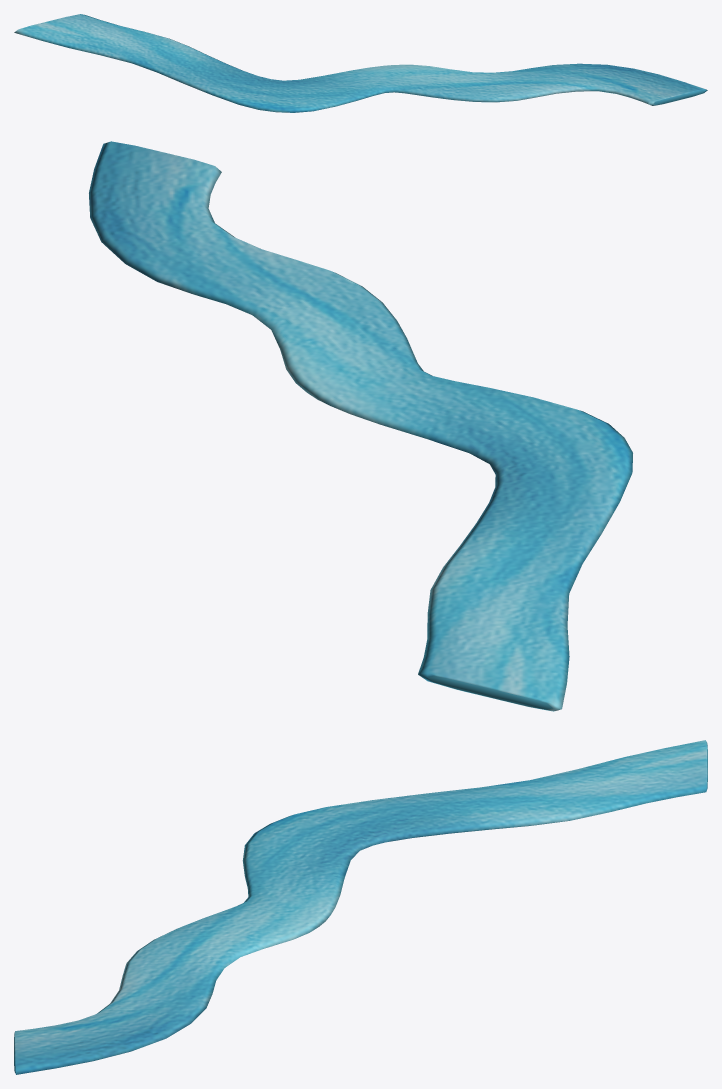
File: waterFixed 1.fbx
3 views of the same model, one above another, from view 1: azimuth 30°, elevation 25°; view 2: azimuth 150°, elevation 25°; view 3: azimuth 270°, elevation 25° (orthographic). The views are drawn at different scales.
Visible parts, largest first — view 1: pCube2; view 2: pCube2; view 3: pCube2.
Part boxes in pixels (left/top/right/bottom): pCube2: left=14, top=14, right=707, bottom=112; pCube2: left=89, top=141, right=632, bottom=711; pCube2: left=14, top=740, right=707, bottom=1074.
Size of the model in its own units: 91.18 by 1.27 by 80.
